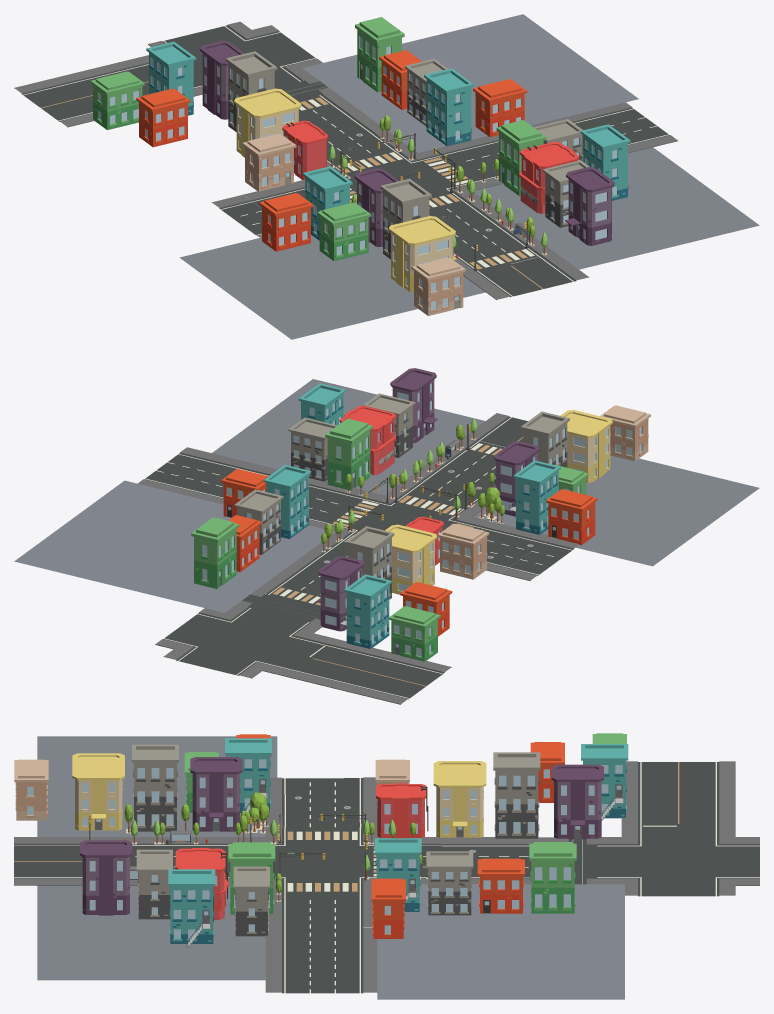
The model's file is indoor.glb.
The picture shows the model from 3 angles, top to bottom: view 1: azimuth 30°, elevation 25°; view 2: azimuth 150°, elevation 25°; view 3: azimuth 270°, elevation 25°; orthographic projection. The views are drawn at different scales.
Parts seen in each view (by area): view 1: Building_2; view 2: Building_2; view 3: Building_2.
Boxes of the visible parts, box(x1,y1,x2,y2) form: Building_2: box(14, 14, 759, 339); Building_2: box(14, 368, 759, 704); Building_2: box(14, 733, 759, 999).
Size of the model in its own units: 571 by 94.48 by 681.
113 materials, 110 textured.
